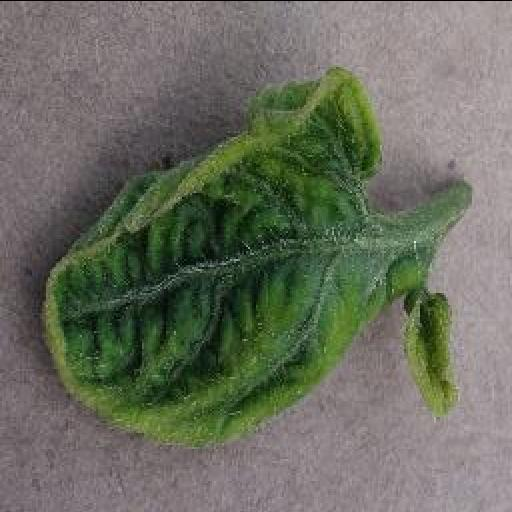disease_tomato: (41, 63, 383, 441), (404, 292, 458, 416)
